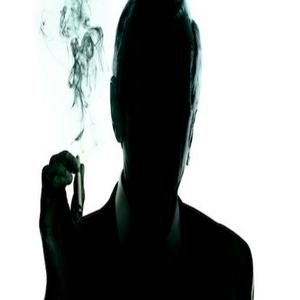cigarette: (77, 153, 80, 213)
